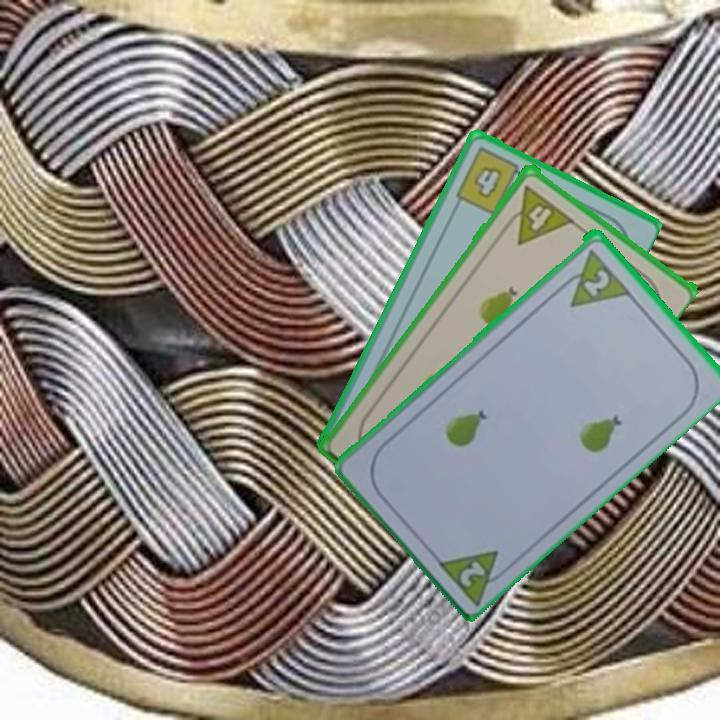2p: (553, 244, 632, 310), (456, 556, 489, 589)
4b: (451, 143, 530, 218)
4p: (498, 181, 576, 247)
